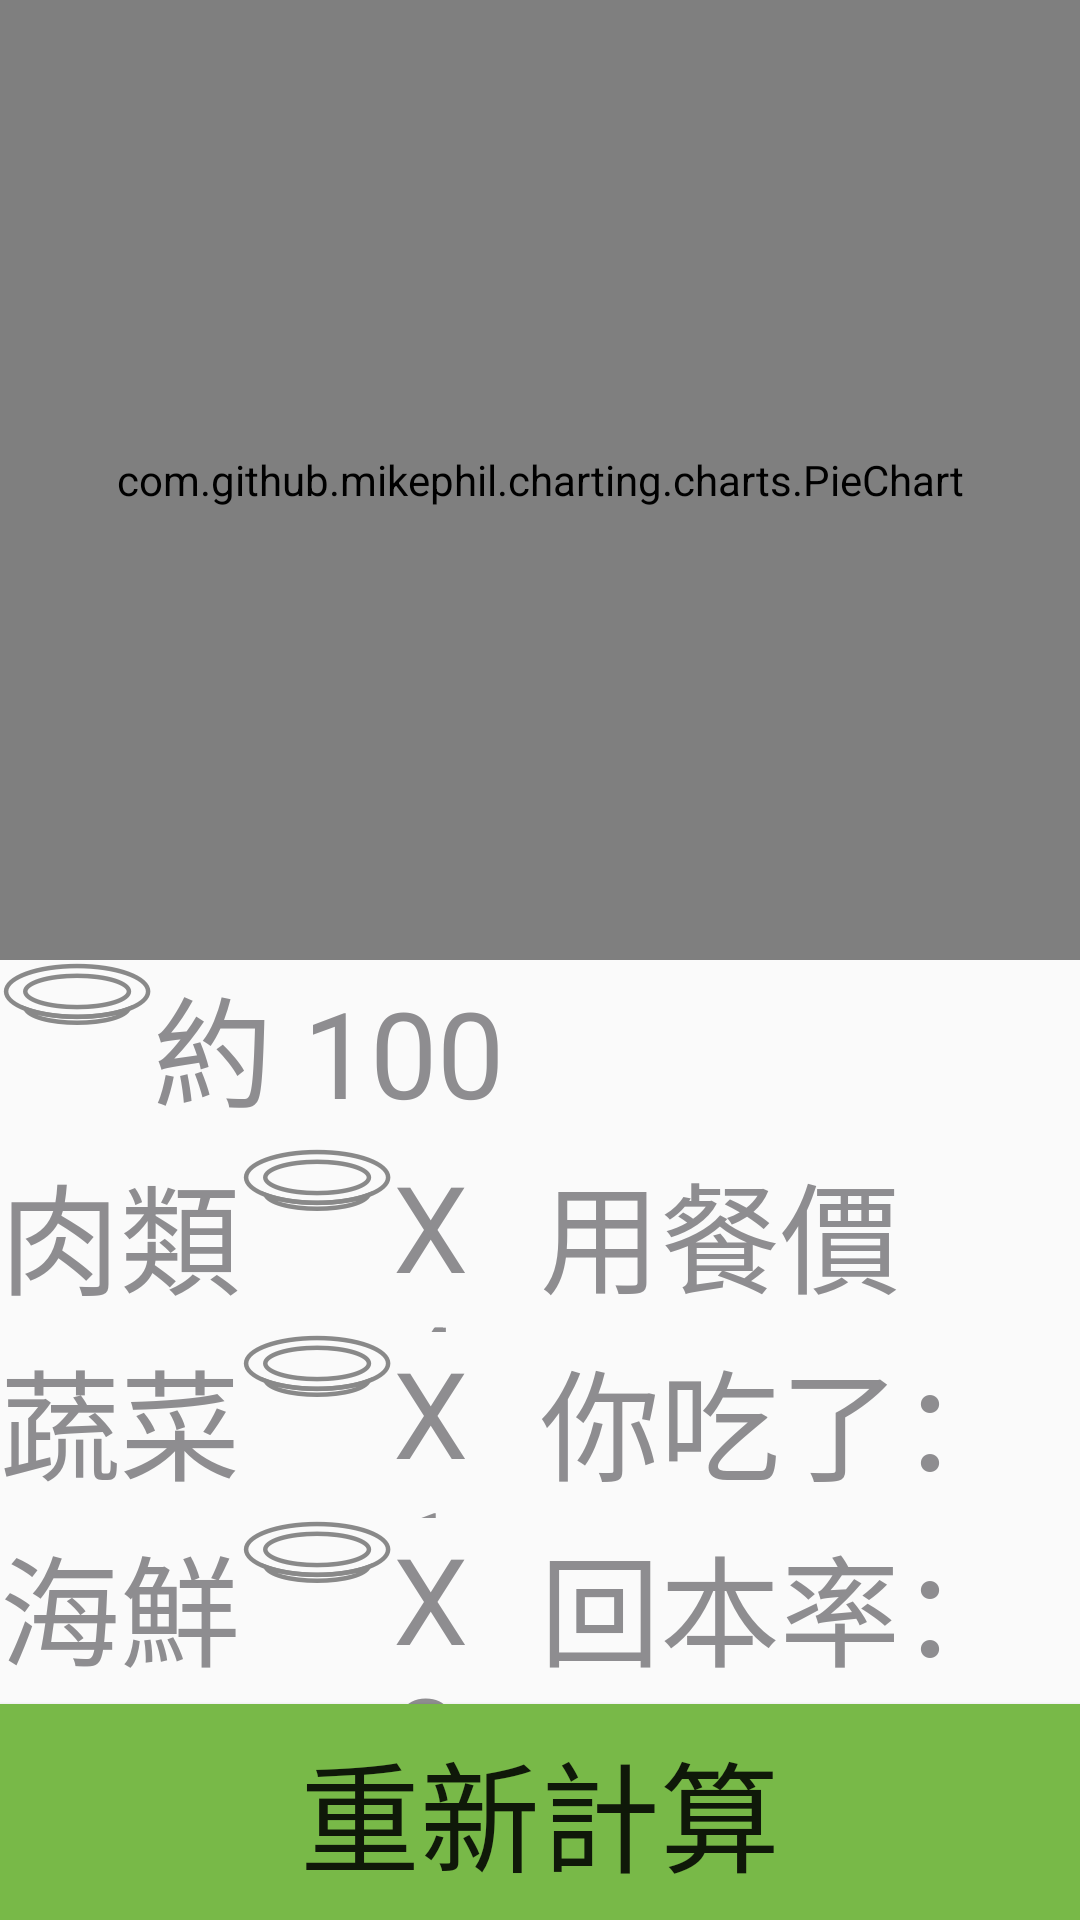

Point at icon controls on the screen. Image size 1080px x 1920px, points as point (x, y).
plate: point (77, 994), point (317, 1180), point (317, 1366), point (317, 1552)
